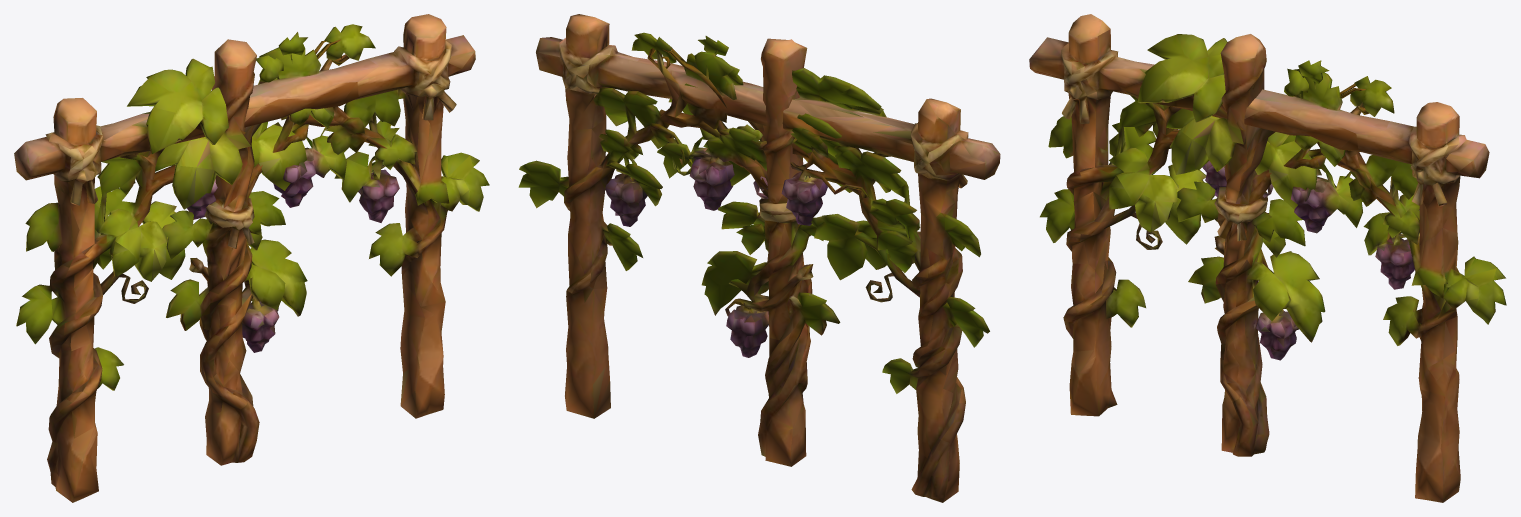
The model's file is parreiras_tripo.glb.
3 views of the same model, side by side, from view 1: azimuth 30°, elevation 25°; view 2: azimuth 150°, elevation 25°; view 3: azimuth 330°, elevation 25° (orthographic).
Parts seen in each view (by area): view 1: Parreira_Arco, Parreira_Poste; view 2: Parreira_Arco, Parreira_Poste; view 3: Parreira_Arco, Parreira_Poste.
Part boxes in pixels (left/top/right/bottom): Parreira_Arco: left=14, top=14, right=489, bottom=502; Parreira_Poste: left=155, top=32, right=349, bottom=465; Parreira_Arco: left=518, top=14, right=1000, bottom=502; Parreira_Poste: left=647, top=36, right=852, bottom=466; Parreira_Arco: left=1029, top=14, right=1506, bottom=502; Parreira_Poste: left=1166, top=34, right=1369, bottom=456.
Size of the model in its own units: 2.92 by 2.46 by 0.3457.
1 material, 1 textured.
